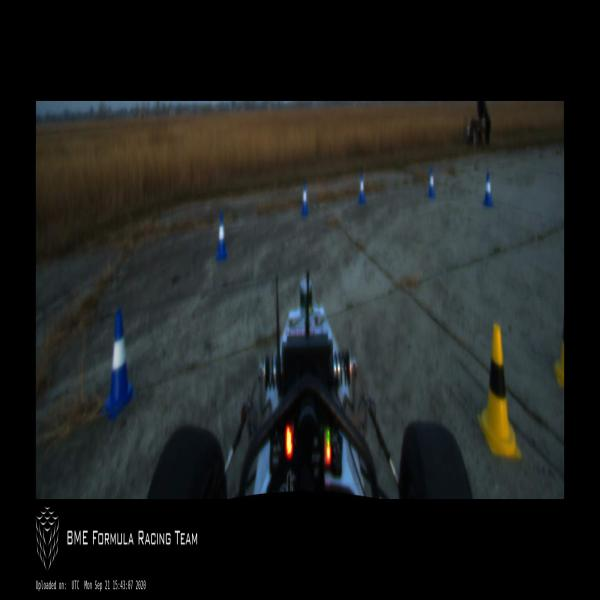blue_cone: (106, 308, 135, 415), (216, 211, 227, 260), (483, 170, 494, 206), (358, 171, 366, 203), (301, 181, 308, 215), (428, 165, 435, 198)
yellow_cone: (478, 324, 521, 456), (554, 321, 564, 386)
